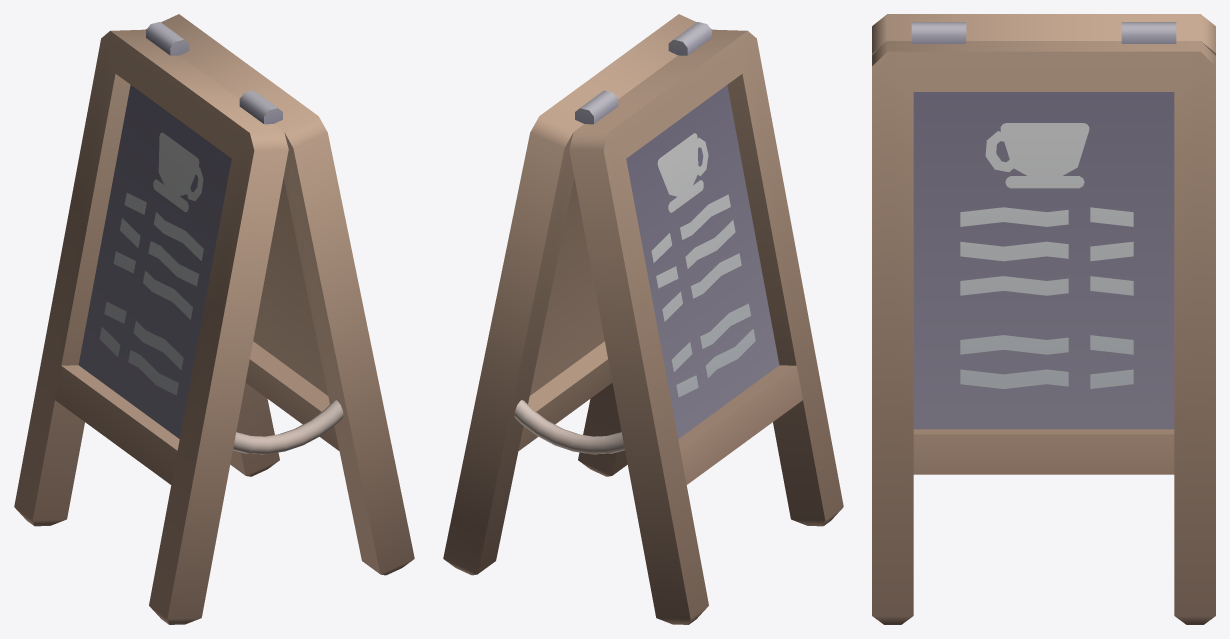
The model's file is chalkboard-sign.glb.
The picture shows the model from 3 angles, left to right: view 1: azimuth 30°, elevation 25°; view 2: azimuth 150°, elevation 25°; view 3: azimuth 270°, elevation 25°; orthographic projection. The views are drawn at different scales.
Parts seen in each view (by area): view 1: chalkboard-sign; view 2: chalkboard-sign; view 3: chalkboard-sign.
Part boxes in pixels (x1,y1,x2,y2): chalkboard-sign: (14,14,414,624); chalkboard-sign: (443,14,843,624); chalkboard-sign: (872,14,1215,624).
Bounding box in the file's own units: 0.4385 × 0.8158 × 0.4702.
